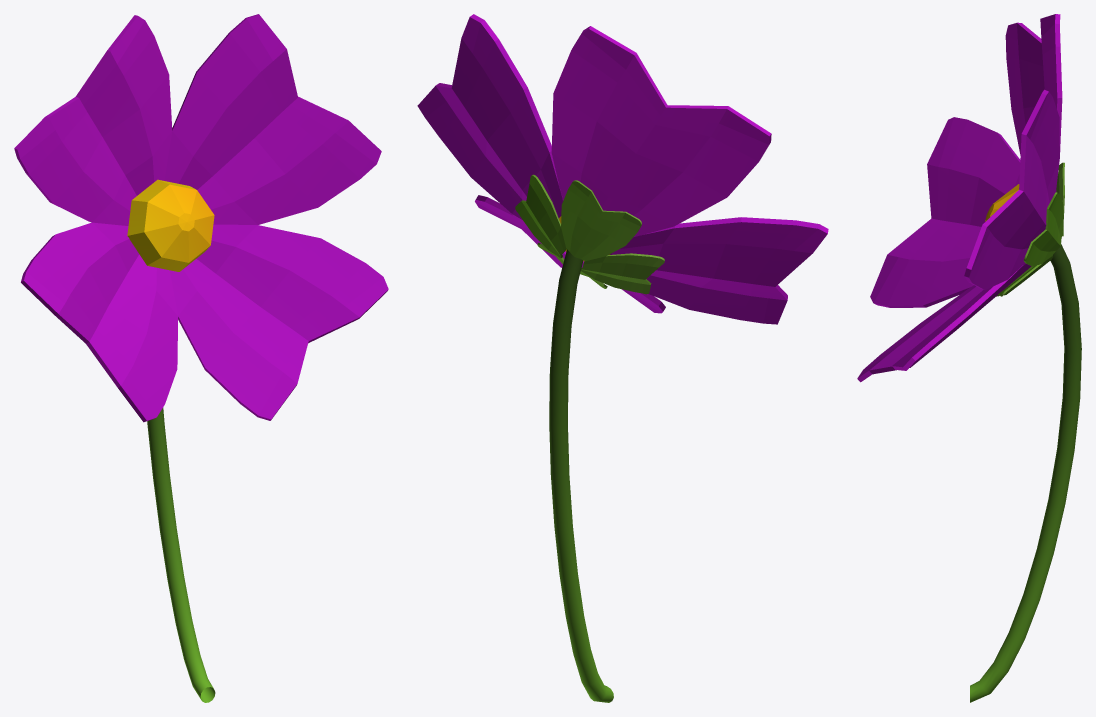
The model's file is Flower05B.fbx.
3 views of the same model, side by side, from view 1: azimuth 30°, elevation 25°; view 2: azimuth 150°, elevation 25°; view 3: azimuth 270°, elevation 25° (orthographic). The views are drawn at different scales.
Parts seen in each view (by area): view 1: Flower05B_LOD0; view 2: Flower05B_LOD0; view 3: Flower05B_LOD0.
Boxes of the visible parts, x1,y1,x2,y2 form: Flower05B_LOD0: (14, 14, 388, 702); Flower05B_LOD0: (417, 14, 828, 702); Flower05B_LOD0: (857, 14, 1081, 702).
Size of what is drawn, in the model's own units: 47.72 by 81.79 by 24.7.
